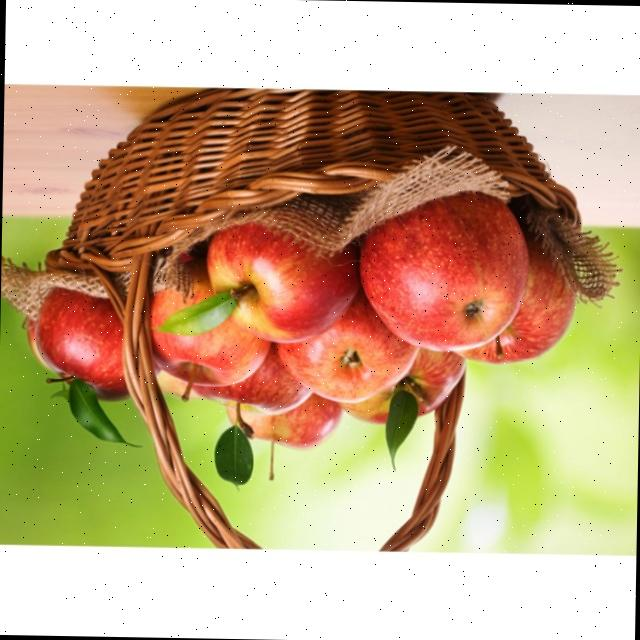Apel: (358, 190, 531, 352), (204, 222, 362, 346), (148, 256, 274, 403), (274, 287, 422, 405), (452, 228, 578, 366), (31, 287, 162, 403), (155, 342, 314, 416), (225, 391, 344, 482), (339, 346, 467, 426)
